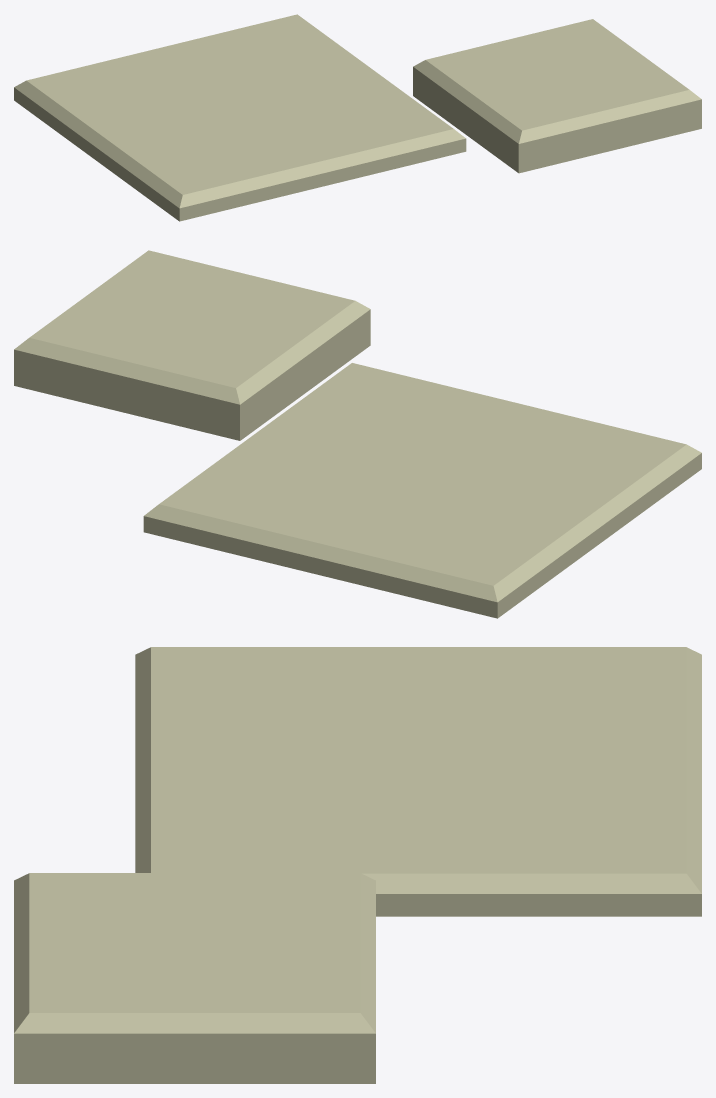
The model's file is Path3.fbx.
3 views of the same model, one above another, from view 1: azimuth 30°, elevation 25°; view 2: azimuth 150°, elevation 25°; view 3: azimuth 270°, elevation 25° (orthographic). The views are drawn at different scales.
Visible parts, largest first — view 1: Path3; view 2: Path3; view 3: Path3.
Boxes of the visible parts, <box> form: Path3: <box>14,14,701,221</box>; Path3: <box>14,250,701,618</box>; Path3: <box>14,647,701,1083</box>.
Size of the model in its own units: 302 by 22.26 by 216.
